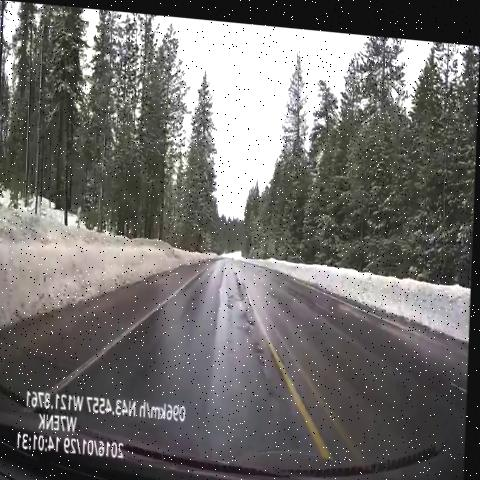pothole: (221, 257, 252, 312), (244, 301, 267, 336)
